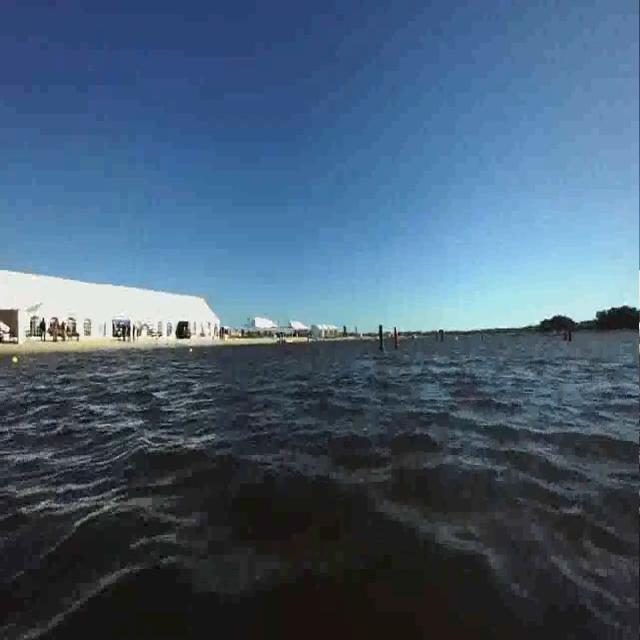green-column-buoy: (377, 325, 387, 353)
red-column-buoy: (392, 327, 400, 350)
yellow-buoy: (10, 354, 19, 366)
